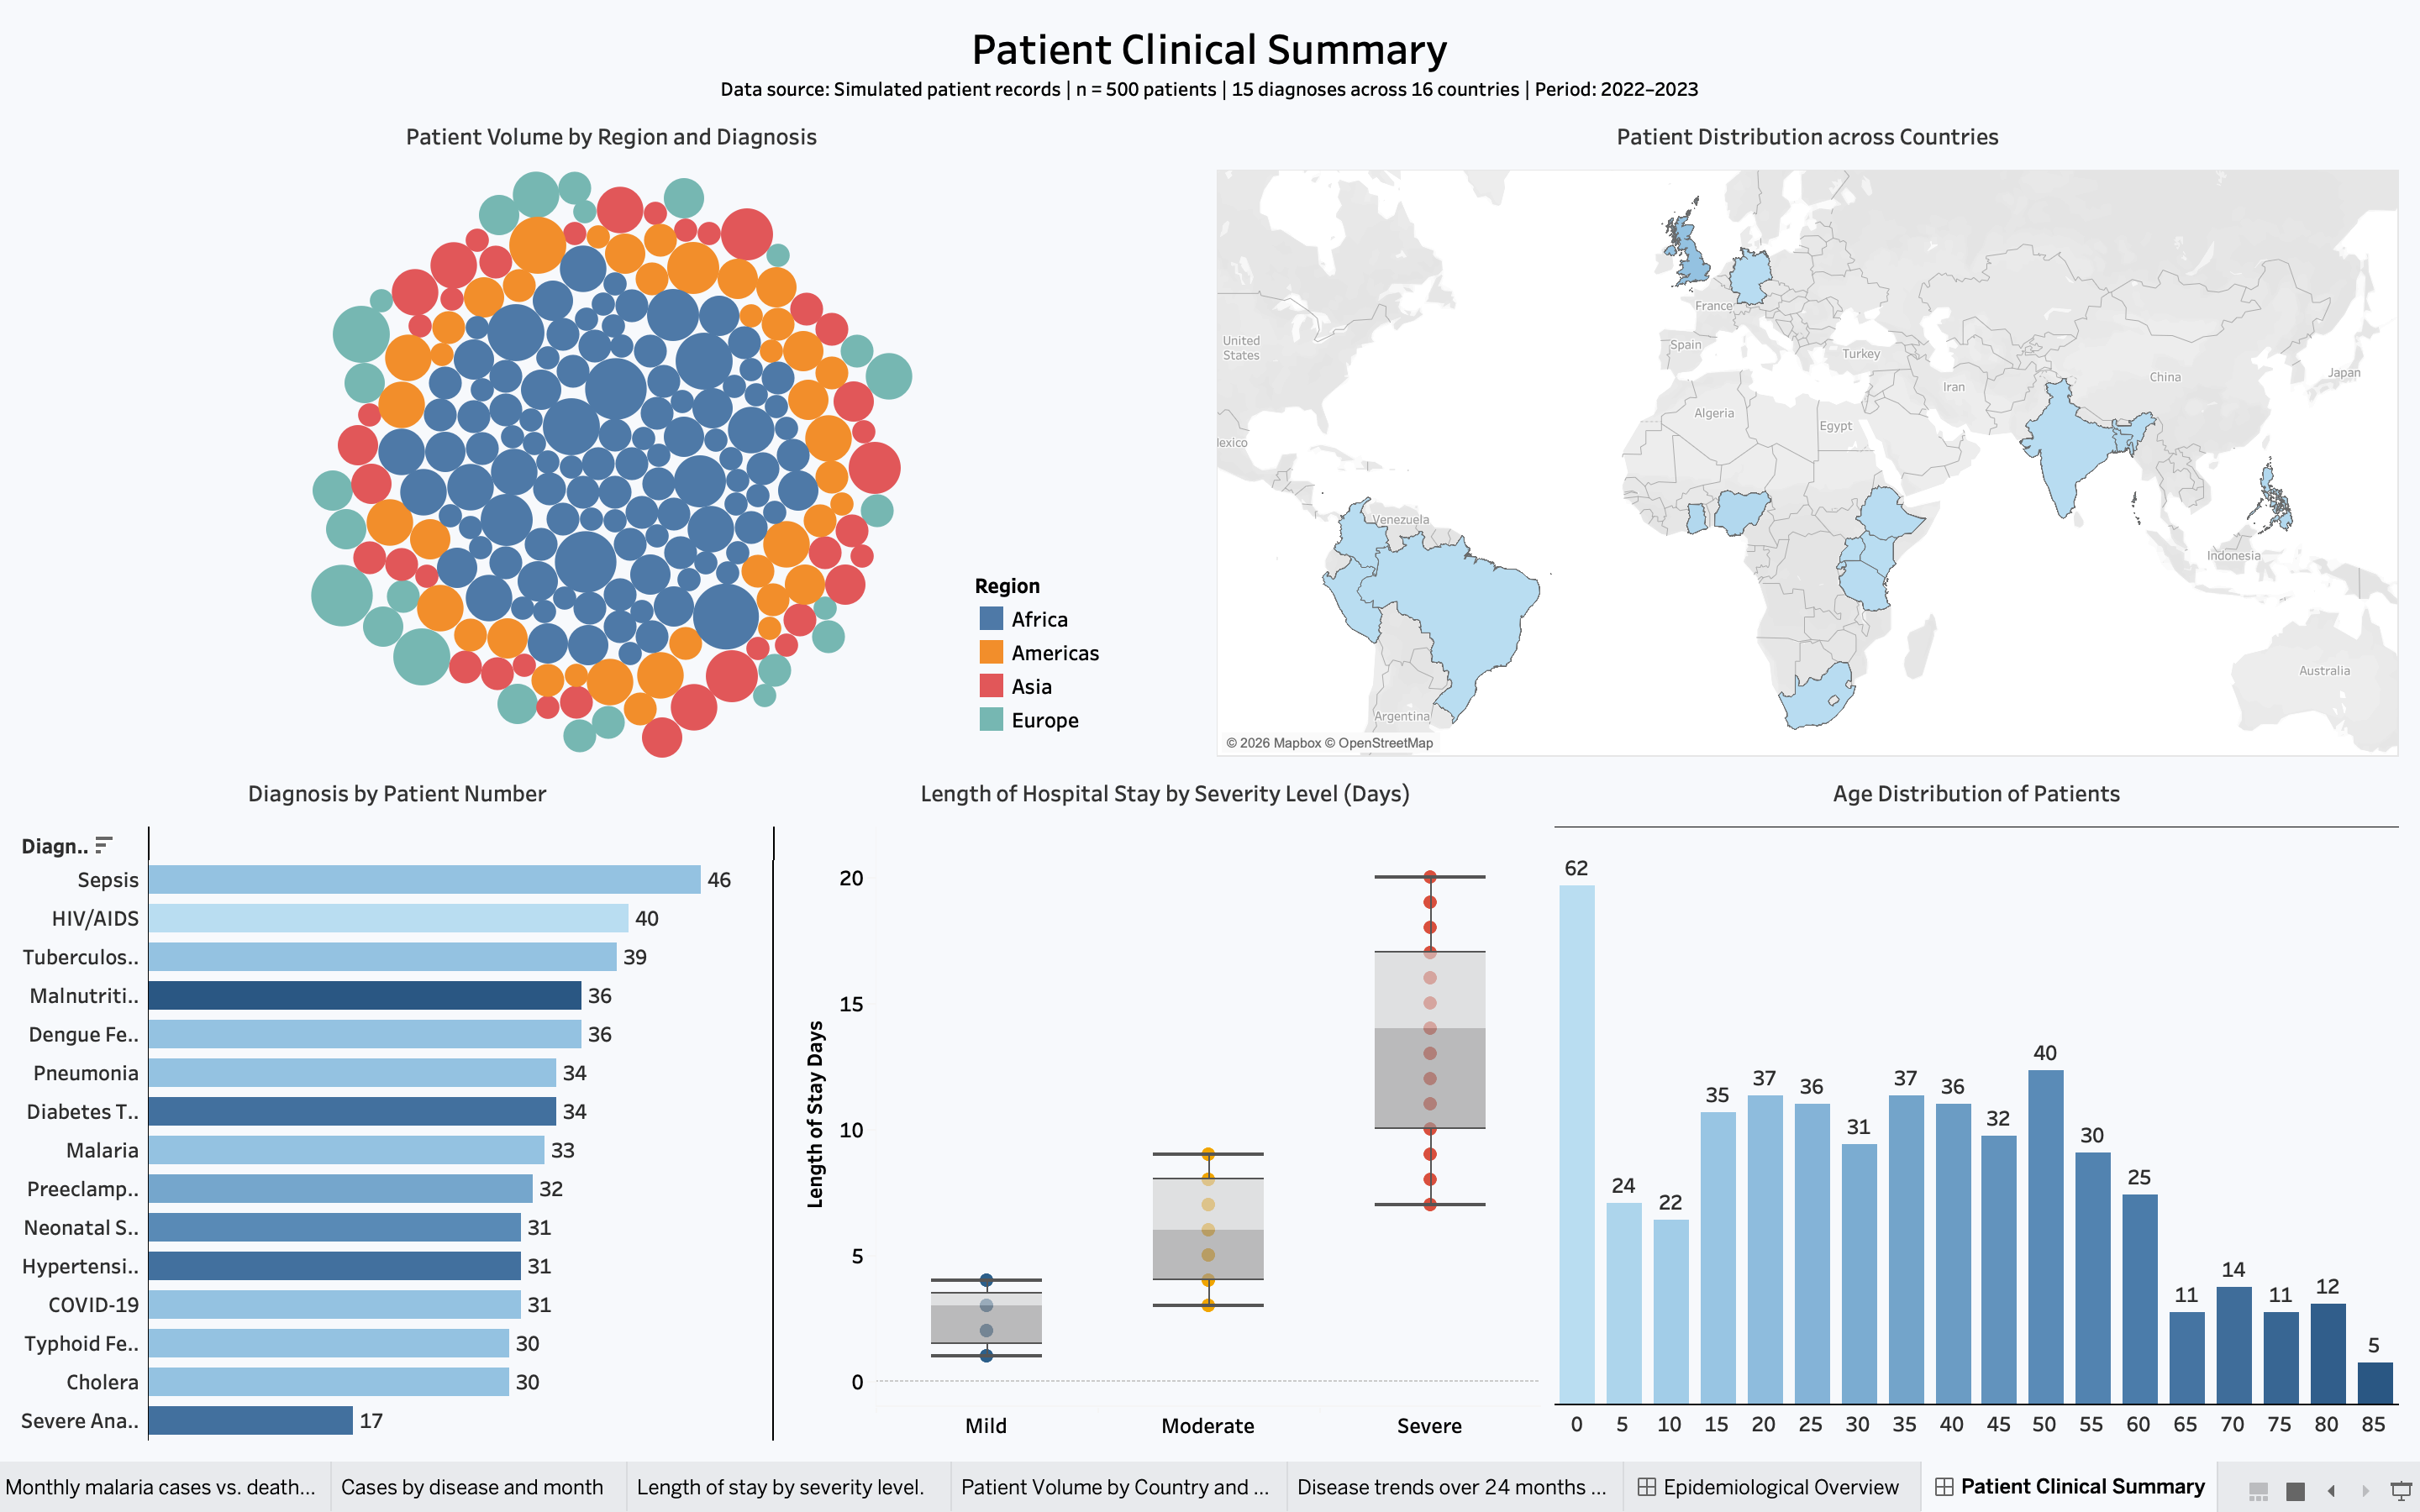

The dashboard page shown, as its layout file describes it:
{"tool":"tableau","page":{"name":"Patient Clinical Summary","canvas":[1000,1000],"units":"permille","ordinal":1},"visuals":[{"type":"title","box":[5.6,9.2,988.9,64.4]},{"type":"worksheet","title":"Patient Volume by Country and Diagnosis","mark":"Circle","box":[5.6,73.6,494.4,449.4]},{"type":"worksheet","title":"Patient Distribution across Countries","mark":"Multipolygon","rows":["Latitude"],"cols":["Longitude"],"box":[500,73.6,494.4,449.4]},{"type":"legend","title":"Patient Volume by Country and Diagnosis","param":"[federated.1gpyu4r0e8r38z16b3pem00td8z2].[none:Region:nk]","box":[402.8,391.1,95.2,121.3]},{"type":"worksheet","title":"Diagnosis by Patient Number","mark":"Automatic","rows":["Diagnosis"],"cols":["Patient_ID"],"box":[5.6,523,317.1,467.8]},{"type":"worksheet","title":"Length of stay by severity level.","mark":"Circle","rows":["Length_of_Stay_Days"],"cols":["Severity"],"box":[322.7,523,317.1,467.8]},{"type":"worksheet","title":"Age Distribution of Patients","mark":"Bar","rows":["Patient_ID"],"cols":["Age (bin)"],"box":[639.8,523,354.7,467.8]}]}

Visuals, with their boxes on the dashboard's canvas, which has no fixed pixel size, in thousandths of its width and height (x1, y1, x2, y2). These are canvas units, not pixel positions in the 2420x1512 screenshot, which may show the page scaled, cropped or inside an application window:
title: [6,9,994,74]
"Patient Volume by Country and Diagnosis" worksheet (Circle marks): [6,74,500,523]
"Patient Distribution across Countries" worksheet (Multipolygon marks): [500,74,994,523]
"Patient Volume by Country and Diagnosis" legend: [403,391,498,512]
"Diagnosis by Patient Number" worksheet: [6,523,323,991]
"Length of stay by severity level." worksheet (Circle marks): [323,523,640,991]
"Age Distribution of Patients" worksheet (Bar marks): [640,523,994,991]
